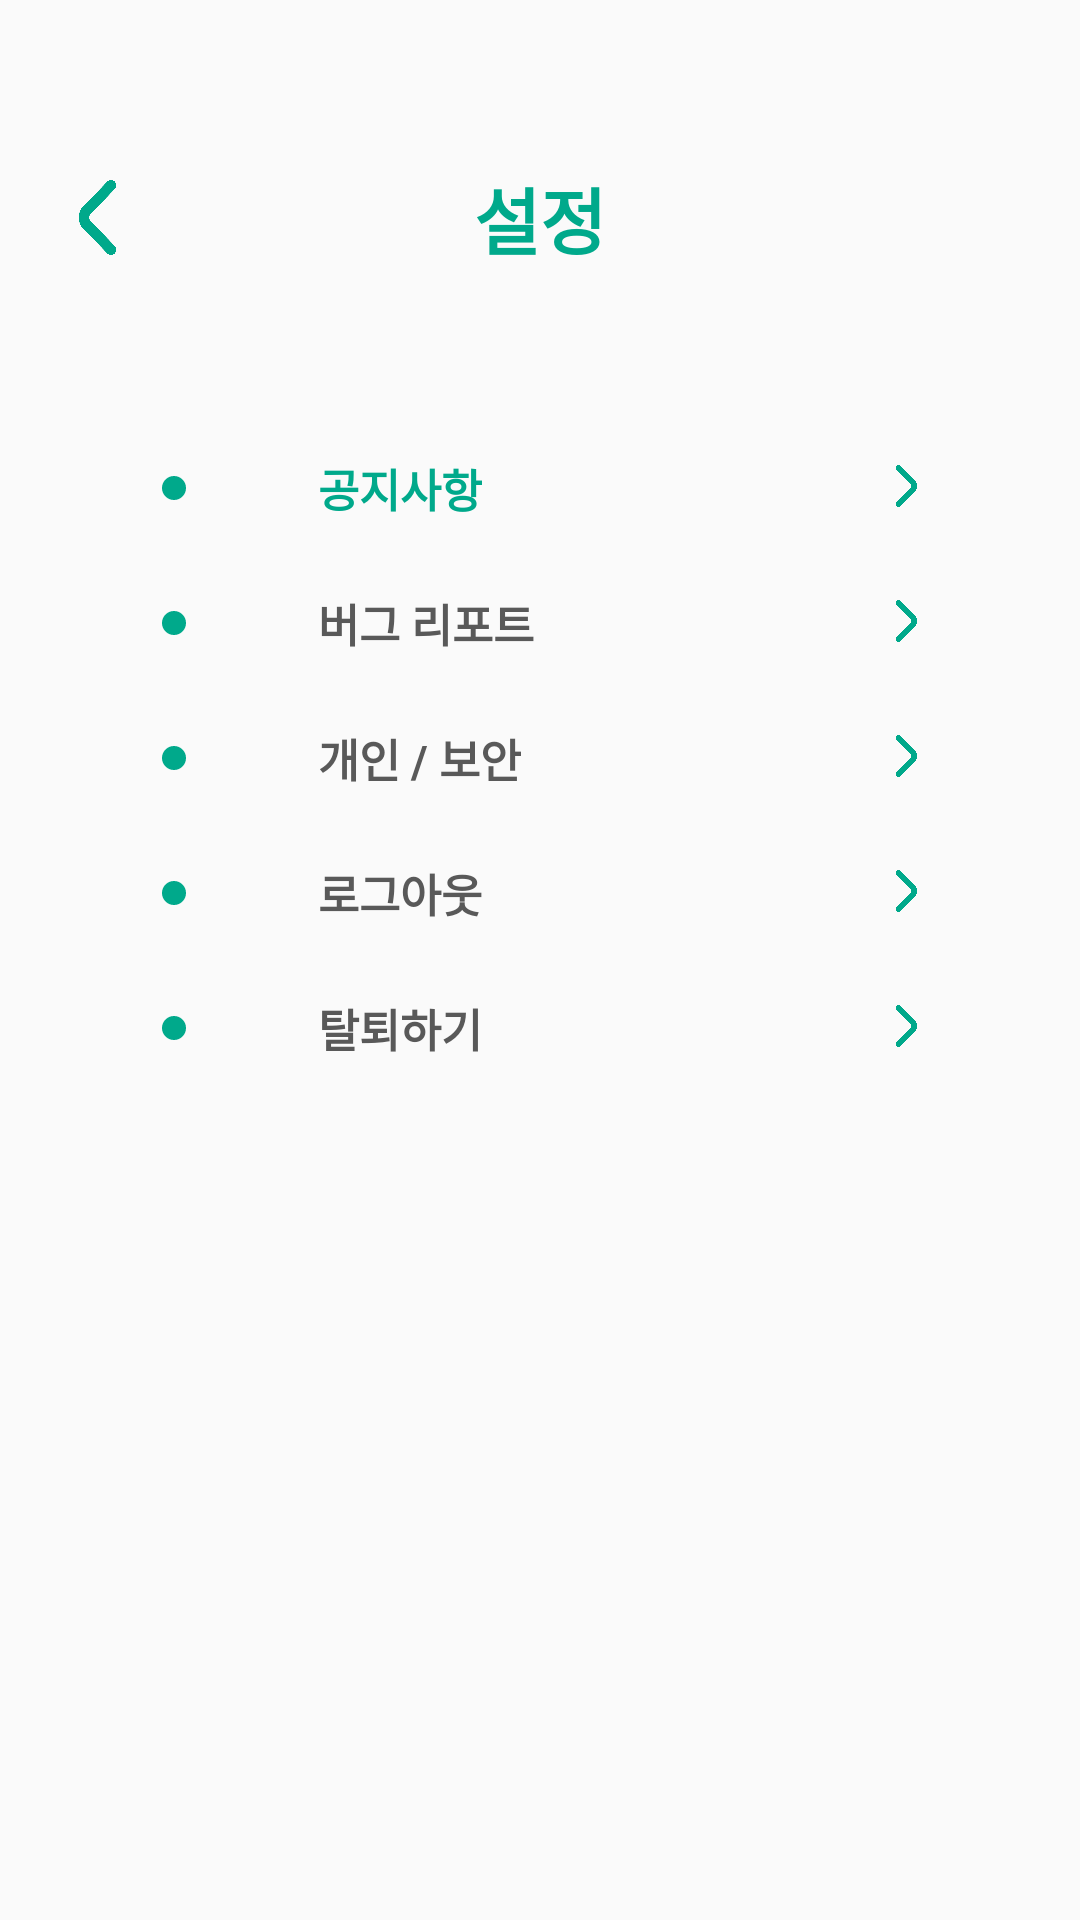

Icons on this 1080 × 1920 Android screen, each with the point to tap as point (x, y):
back: point (97, 217)
